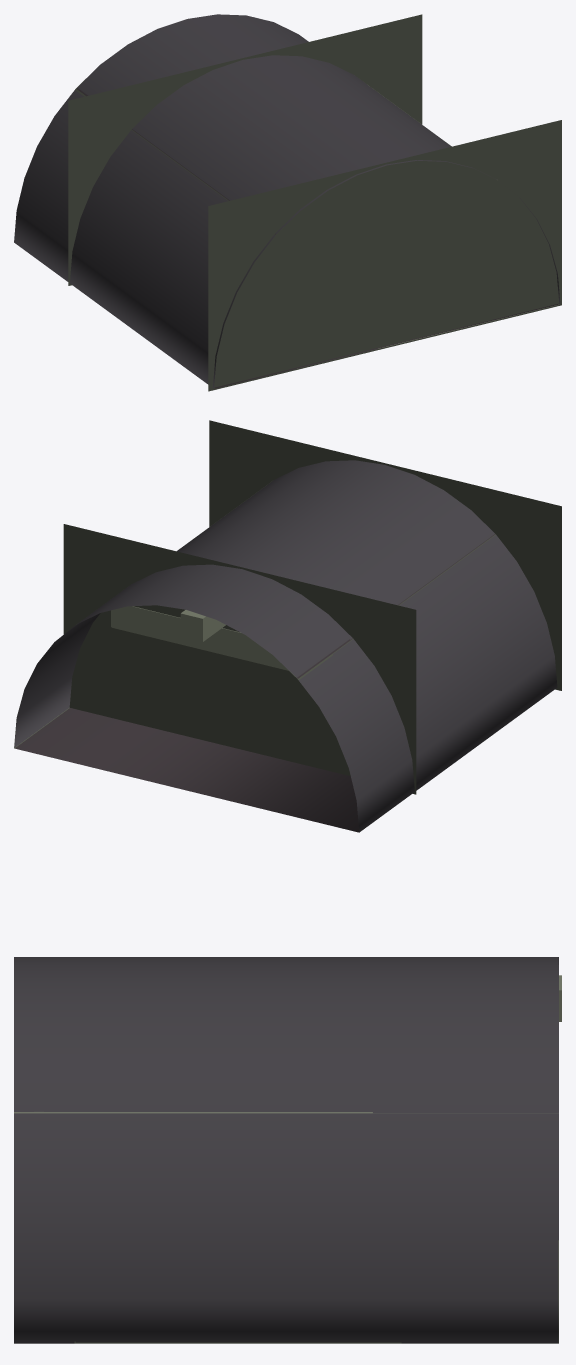
Rendered from sala1.fbx.
The picture shows the model from 3 angles, top to bottom: view 1: azimuth 30°, elevation 25°; view 2: azimuth 150°, elevation 25°; view 3: azimuth 270°, elevation 25°; orthographic projection. The views are drawn at different scales.
Parts seen in each view (by area): view 1: Cube.010; view 2: Cube.010; view 3: Cube.010.
Boxes of the visible parts, x1,y1,x2,y2 form: Cube.010: (14,14,561,391); Cube.010: (14,420,561,832); Cube.010: (14,957,561,1343).
Size of the model in its own units: 2288 by 1136 by 2233.
